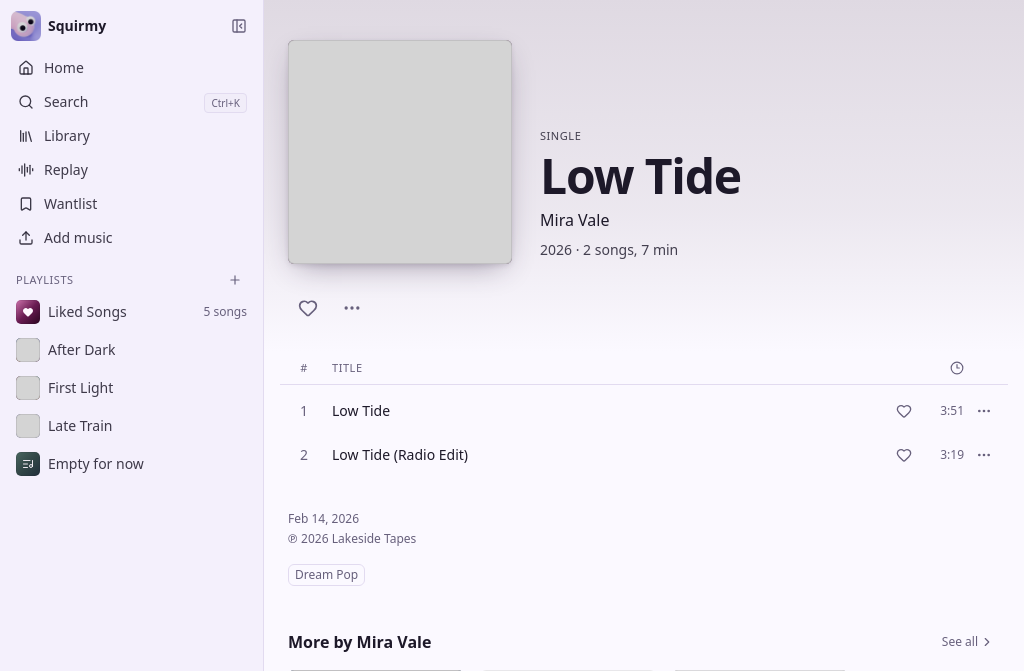
Test: album page › for someone the server fetches music for › has one menu entry that mirrors the heart, and no separate library button
Later steps or results of the test are not shown.
Check: the list named "Low Tide tracks" is shown, box [280,389,1008,477]
Click the button named "More options" at [352, 308], box [332,288,372,328]
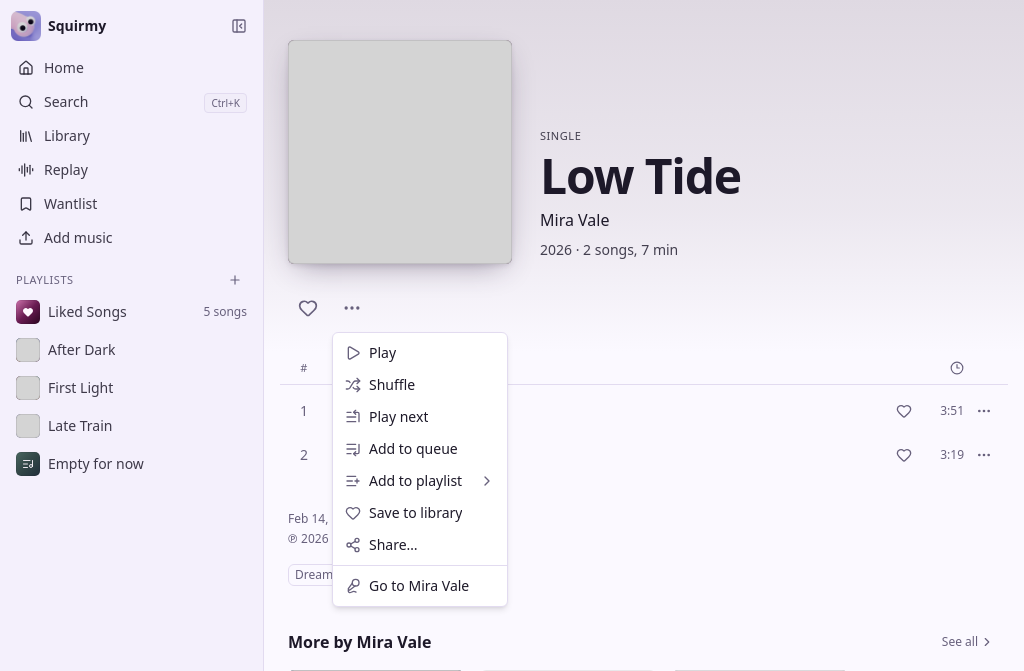
Click the menu item "Save to library" at [404, 512], box [345,503,462,522]
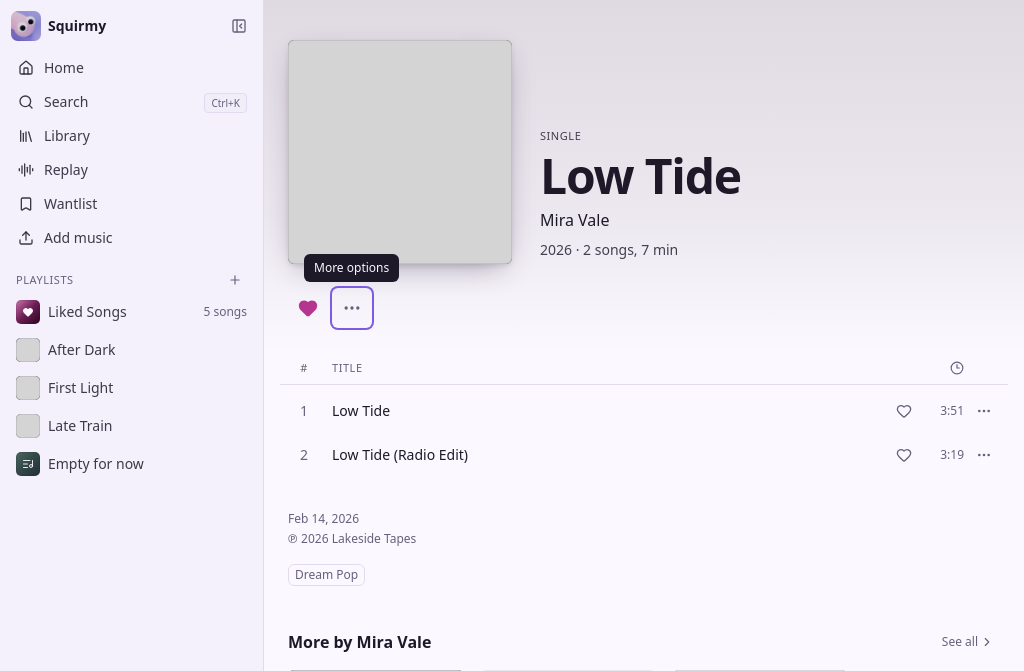
Check: the menu is gone
Check: the button named "Remove from library" is shown, box [288,288,328,328]
Click the button named "More options" at [352, 308], box [332,288,372,328]
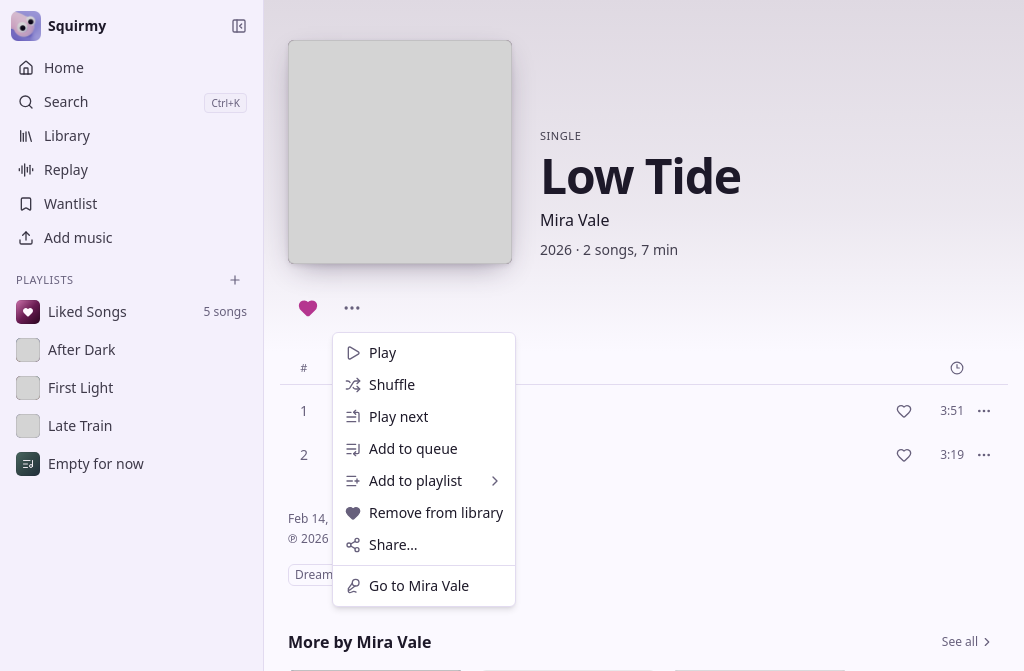
Check: the menu item "Remove from library" is shown, box [345,503,503,522]
